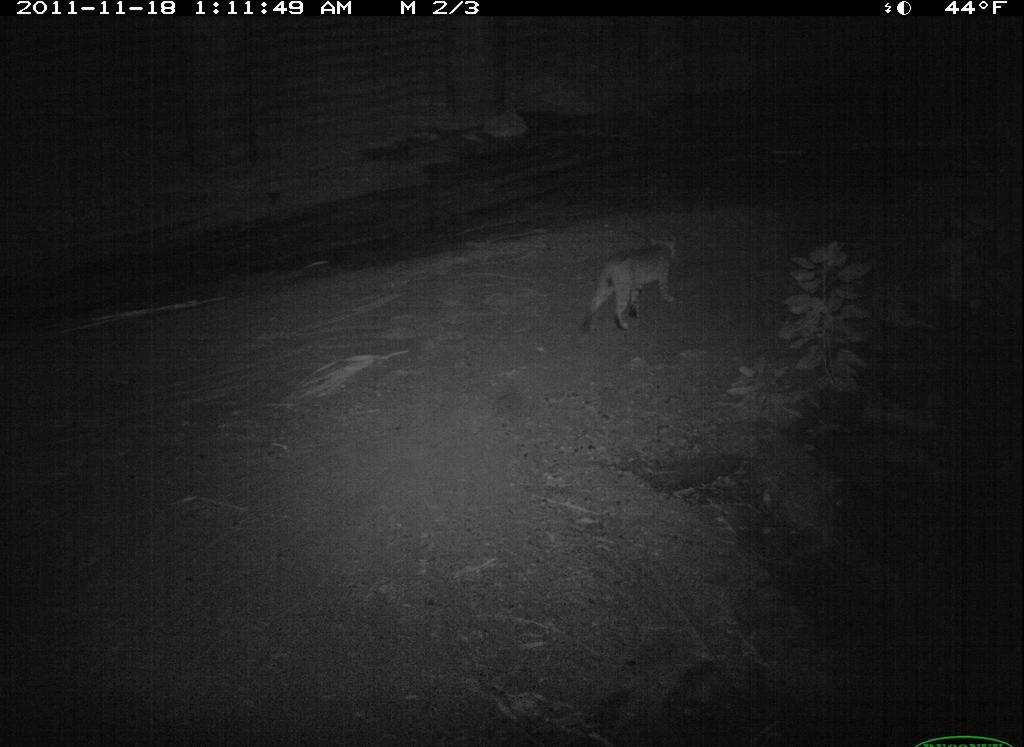bobcat: (580, 235, 688, 338)
